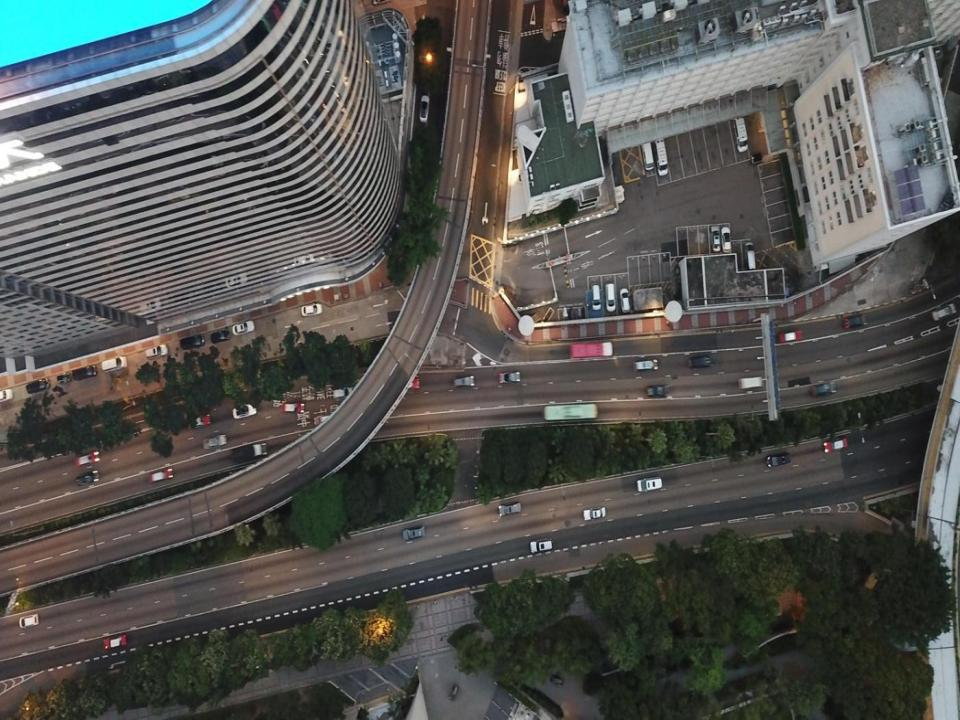bus: (543, 404, 597, 419), (641, 142, 654, 171)
car: (810, 381, 837, 396), (75, 451, 100, 466), (766, 453, 790, 468), (202, 435, 227, 449), (822, 439, 848, 452), (74, 471, 98, 485), (104, 634, 126, 649), (584, 507, 606, 522), (148, 469, 173, 482), (645, 385, 670, 398), (402, 526, 425, 540), (844, 314, 867, 328), (233, 405, 257, 418), (186, 415, 210, 428), (396, 377, 420, 390), (233, 321, 255, 335), (780, 330, 802, 344), (934, 304, 952, 321), (633, 359, 658, 371), (19, 613, 39, 628), (280, 402, 304, 414), (498, 503, 520, 516), (210, 330, 230, 344), (688, 356, 711, 368), (301, 303, 322, 316), (720, 228, 731, 252), (420, 95, 429, 123), (454, 376, 475, 388), (710, 226, 720, 251), (620, 288, 630, 313), (500, 371, 520, 383), (738, 378, 762, 388), (0, 388, 14, 403), (57, 374, 71, 383)
truck: (570, 341, 612, 358), (232, 443, 267, 461)
van: (654, 138, 668, 174), (734, 116, 748, 152), (101, 356, 128, 372), (26, 377, 51, 394), (180, 333, 205, 350), (636, 477, 662, 492), (332, 386, 361, 399), (73, 365, 96, 380), (605, 282, 616, 312), (145, 344, 168, 358), (530, 538, 553, 552), (745, 242, 756, 270), (591, 282, 601, 310)
